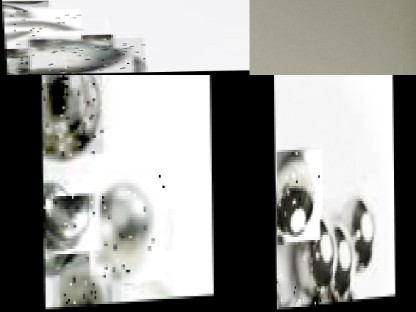ironball: (86, 177, 163, 287), (39, 74, 101, 159), (13, 38, 142, 74), (273, 150, 321, 242), (41, 184, 91, 267), (292, 224, 331, 293), (0, 9, 78, 40), (341, 193, 372, 269), (49, 275, 118, 308), (332, 221, 352, 301), (274, 282, 294, 309)
